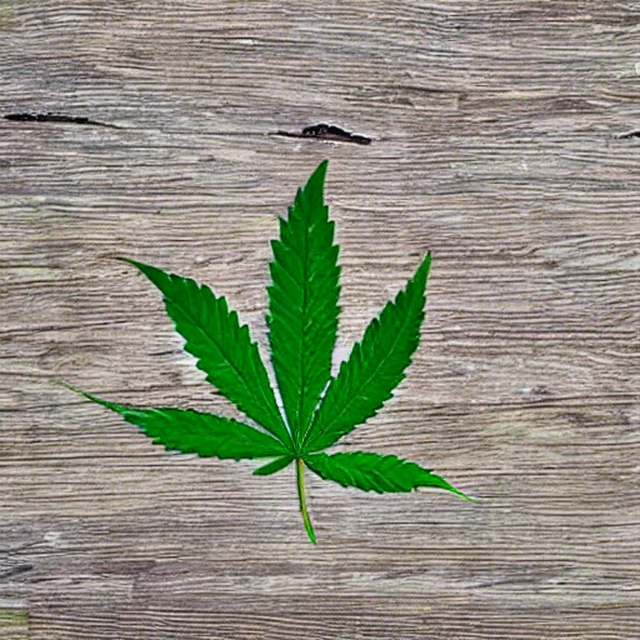Marijuana Leaf: (56, 157, 480, 545), (263, 157, 342, 444)
